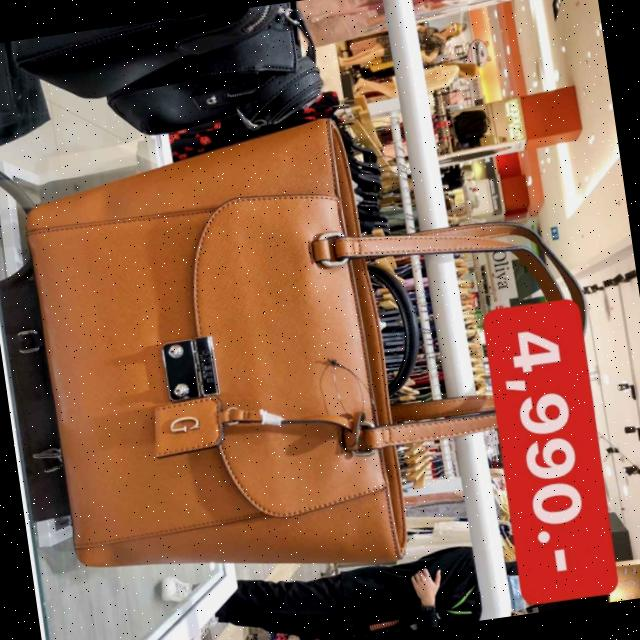handbag: (14, 114, 414, 610)
